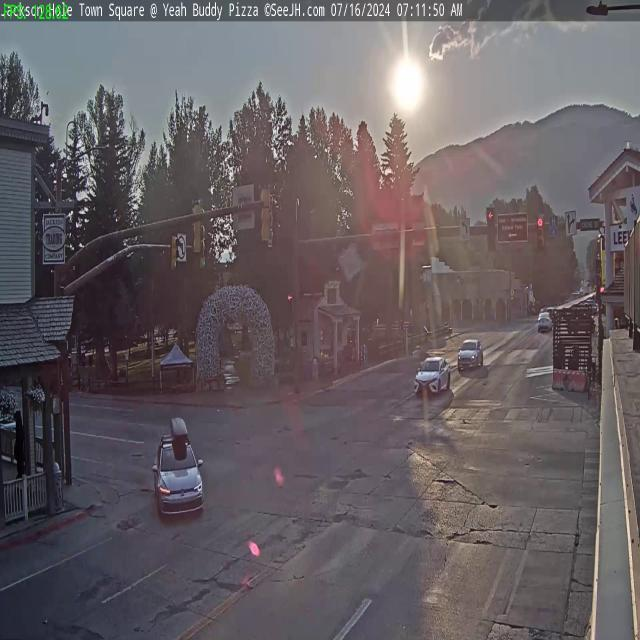sedan: (414, 352, 450, 394), (457, 336, 485, 372)
suv: (153, 434, 206, 518), (536, 310, 552, 332)
traffic light: (260, 184, 273, 244), (190, 198, 203, 254), (486, 208, 497, 253), (170, 230, 178, 269), (536, 216, 544, 250)
